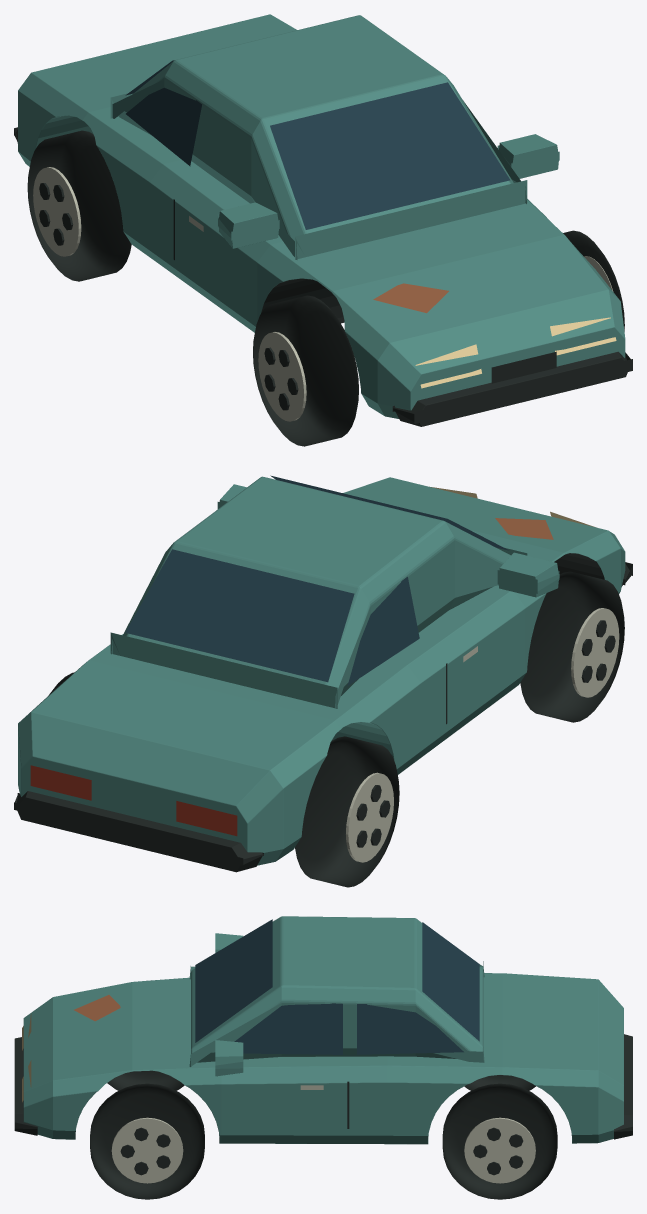
Rendered from blender-sedan.glb.
The picture shows the model from 3 angles, top to bottom: view 1: azimuth 30°, elevation 25°; view 2: azimuth 150°, elevation 25°; view 3: azimuth 270°, elevation 25°; orthographic projection. The views are drawn at different scales.
Visible parts, largest first — view 1: Sculpted_body_shell, Shaped_roof_and_pillars, Windshield, Profiled_tire.001, Profiled_tire, Front_bumper, Rear_side_glass, Alloy_disc.001, Alloy_disc, Wing_mirror, Wing_mirror.001, Rust_on_hood (+4 smaller); view 2: Sculpted_body_shell, Shaped_roof_and_pillars, Rear_windshield, Profiled_tire.001, Profiled_tire, Rear_bumper, Rear_side_glass, Alloy_disc.001, Alloy_disc, Wing_mirror, Tail_light, Tail_light.001 (+2 smaller); view 3: Sculpted_body_shell, Shaped_roof_and_pillars, Profiled_tire.002, Profiled_tire.003, Windshield, Front_side_glass.001, Rear_windshield, Rear_side_glass.001, Alloy_disc.003, Alloy_disc.002, Rear_bumper, Front_bumper (+4 smaller).
Boxes of the visible parts, x1,y1,x2,y2 form: Sculpted_body_shell: [18, 14, 625, 418]; Shaped_roof_and_pillars: [110, 15, 527, 259]; Windshield: [270, 82, 510, 229]; Profiled_tire.001: [253, 295, 358, 446]; Profiled_tire: [27, 130, 131, 281]; Front_bumper: [392, 351, 632, 426]; Rear_side_glass: [126, 87, 201, 166]; Alloy_disc.001: [258, 332, 306, 421]; Alloy_disc: [33, 167, 81, 256]; Wing_mirror: [217, 202, 279, 248]; Wing_mirror.001: [497, 134, 559, 178]; Rust_on_hood: [373, 283, 448, 313]; Sculpted_body_shell: [18, 477, 625, 865]; Shaped_roof_and_pillars: [110, 476, 527, 708]; Rear_windshield: [125, 549, 354, 682]; Profiled_tire.001: [520, 571, 624, 722]; Profiled_tire: [295, 736, 399, 887]; Rear_bumper: [14, 791, 263, 872]; Rear_side_glass: [347, 576, 419, 685]; Alloy_disc.001: [571, 608, 619, 697]; Alloy_disc: [346, 772, 393, 862]; Wing_mirror: [497, 552, 559, 597]; Tail_light: [176, 801, 237, 836]; Tail_light.001: [30, 765, 91, 800]; Sculpted_body_shell: [23, 973, 623, 1144]; Shaped_roof_and_pillars: [189, 916, 484, 1066]; Profiled_tire.002: [442, 1083, 557, 1199]; Profiled_tire.003: [90, 1083, 204, 1199]; Windshield: [195, 919, 272, 1042]; Front_side_glass.001: [234, 1003, 342, 1054]; Rear_windshield: [422, 922, 479, 1041]; Rear_side_glass.001: [357, 1004, 463, 1054]; Alloy_disc.003: [111, 1117, 183, 1183]; Alloy_disc.002: [464, 1117, 535, 1183]; Rear_bumper: [614, 1034, 632, 1139]; Front_bumper: [14, 1037, 37, 1135].
Bounding box in the file's own units: 2.32 × 1.66 × 4.85.
